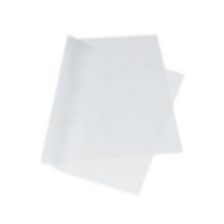tissue: (35, 25, 191, 200)
